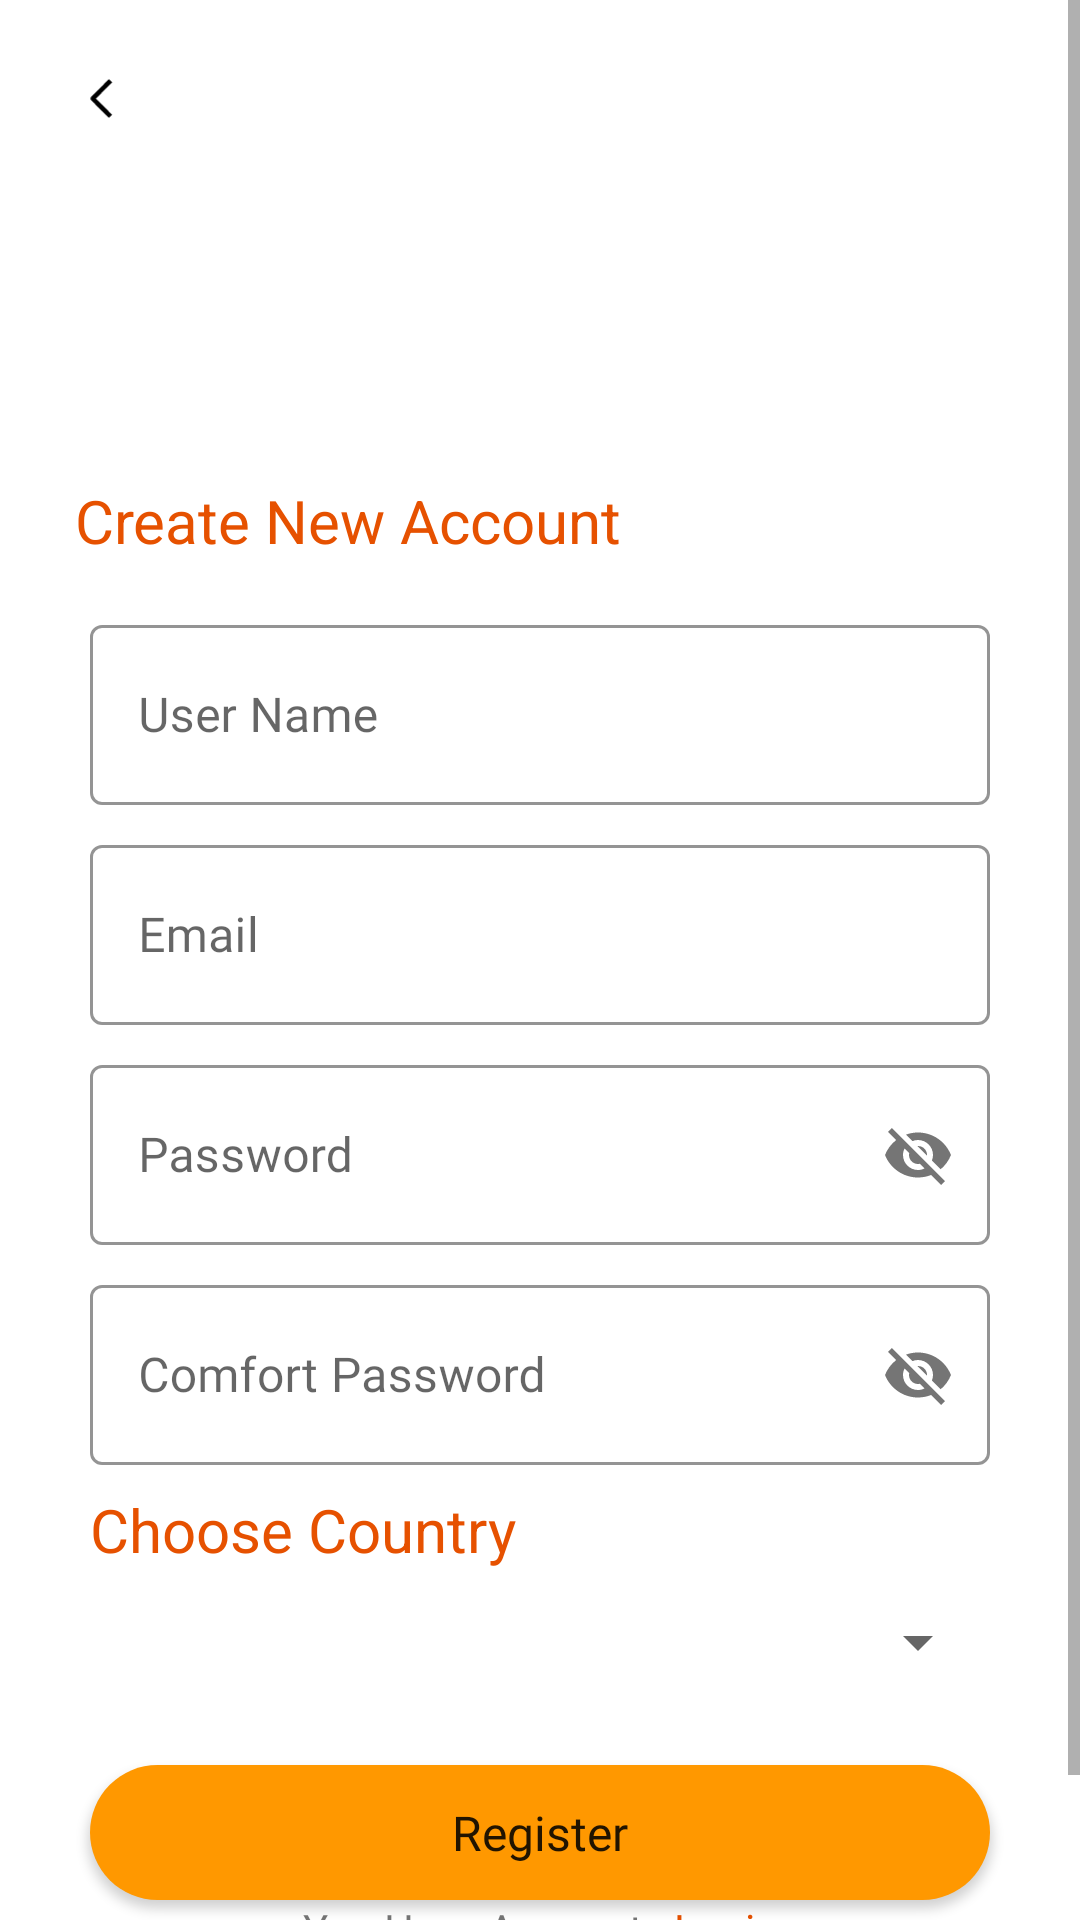

Named icons in this screenshot (1080x1920) and their centers, (x=x, y=y):
back: (x=101, y=98)
